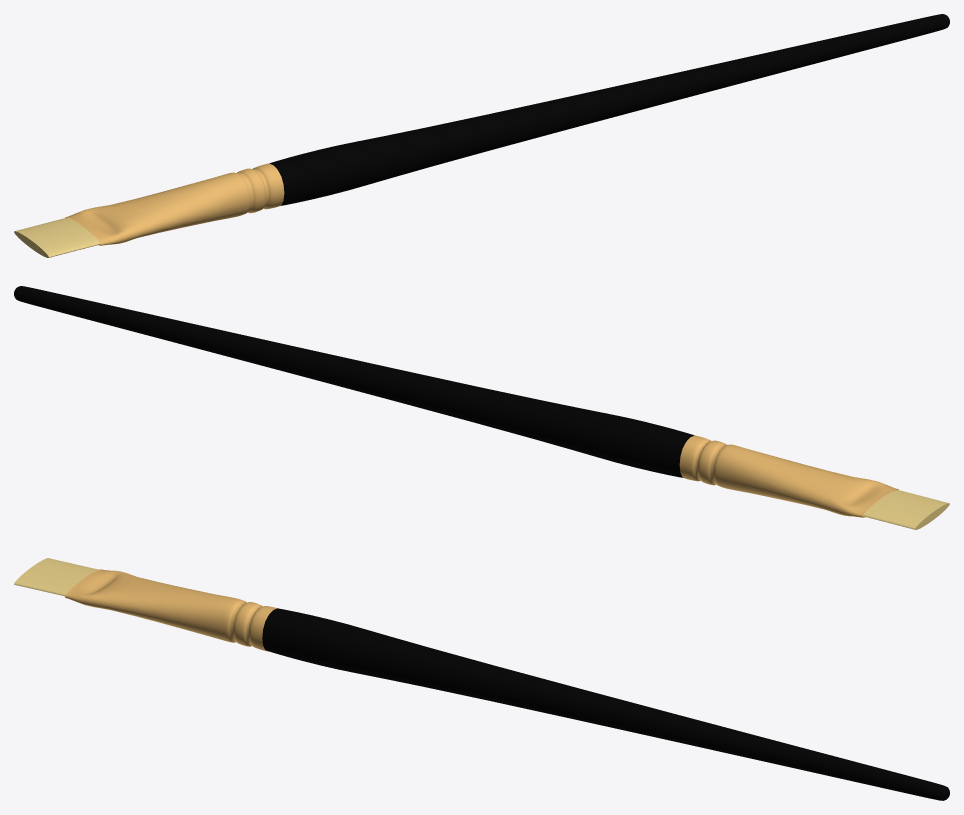
The model's file is brushs1.glb.
3 renders of one model, top to bottom at view 1: azimuth 30°, elevation 25°; view 2: azimuth 150°, elevation 25°; view 3: azimuth 330°, elevation 25°, orthographic.
Parts seen in each view (by area): view 1: 18 flat brush, Cube.001, Cylinder; view 2: 18 flat brush, Cube.001, Cylinder; view 3: 18 flat brush, Cube.001, Cylinder.
Part boxes in pixels (x1=…): 18 flat brush: x1=269, y1=14, x2=949, y2=205; Cube.001: x1=65, y1=163, x2=284, y2=245; Cylinder: x1=14, y1=217, x2=100, y2=257; 18 flat brush: x1=14, y1=286, x2=694, y2=477; Cube.001: x1=679, y1=435, x2=898, y2=517; Cylinder: x1=863, y1=489, x2=949, y2=529; 18 flat brush: x1=262, y1=608, x2=949, y2=800; Cube.001: x1=65, y1=569, x2=276, y2=651; Cylinder: x1=14, y1=558, x2=98, y2=596.
Size of the model in its own units: 2.39 by 0.1048 by 0.1702.
